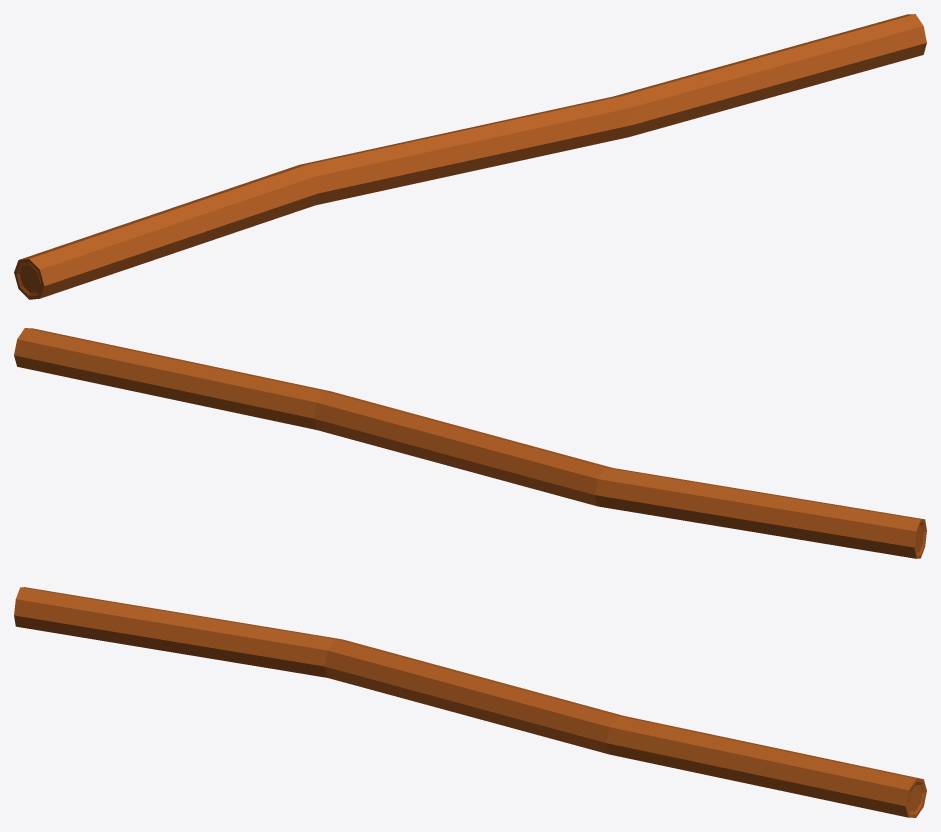
Rendered from WoodStick_01.fbx.
3 renders of one model, top to bottom at view 1: azimuth 30°, elevation 25°; view 2: azimuth 150°, elevation 25°; view 3: azimuth 330°, elevation 25°, orthographic. The views are drawn at different scales.
Parts seen in each view (by area): view 1: WoodStick_01; view 2: WoodStick_01; view 3: WoodStick_01.
Part boxes in pixels (<box>): WoodStick_01: <box>14,14,926,299</box>; WoodStick_01: <box>14,328,926,558</box>; WoodStick_01: <box>14,587,926,817</box>.
Size of the model in its own units: 82.95 by 3.53 by 8.02.
